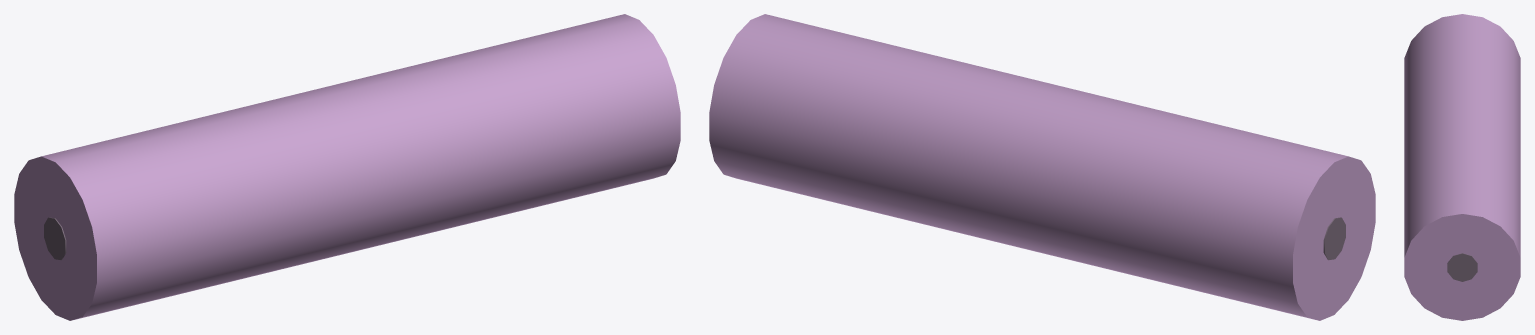
Rendered from mat_roll.glb.
3 views of the same model, side by side, from view 1: azimuth 30°, elevation 25°; view 2: azimuth 150°, elevation 25°; view 3: azimuth 270°, elevation 25° (orthographic). The views are drawn at different scales.
Visible parts, largest first — view 1: tint_mat, core; view 2: tint_mat, core; view 3: tint_mat, core.
Part boxes in pixels (<box>): tint_mat: <box>14,14,680,320</box>; core: <box>44,217,66,260</box>; tint_mat: <box>709,14,1375,320</box>; core: <box>1323,217,1345,260</box>; tint_mat: <box>1404,14,1520,320</box>; core: <box>1447,253,1477,281</box>.
Bounding box in the file's own units: 0.602 × 0.15 × 0.1477.
